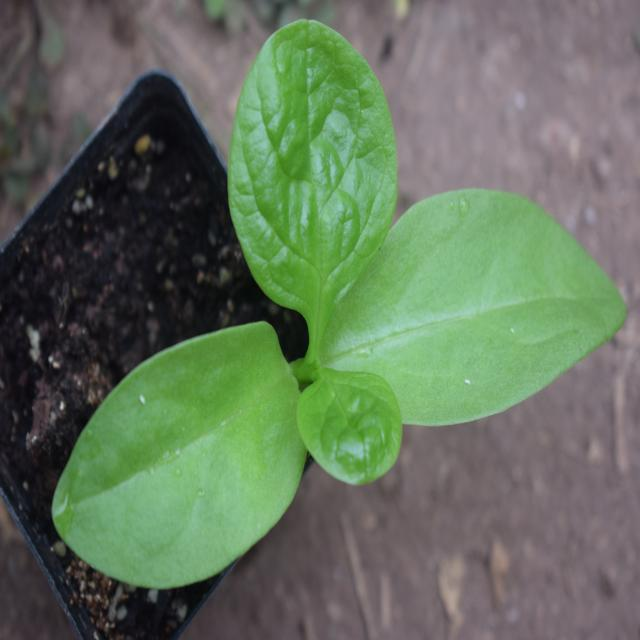Ceylon spinach: (75, 29, 610, 603)
